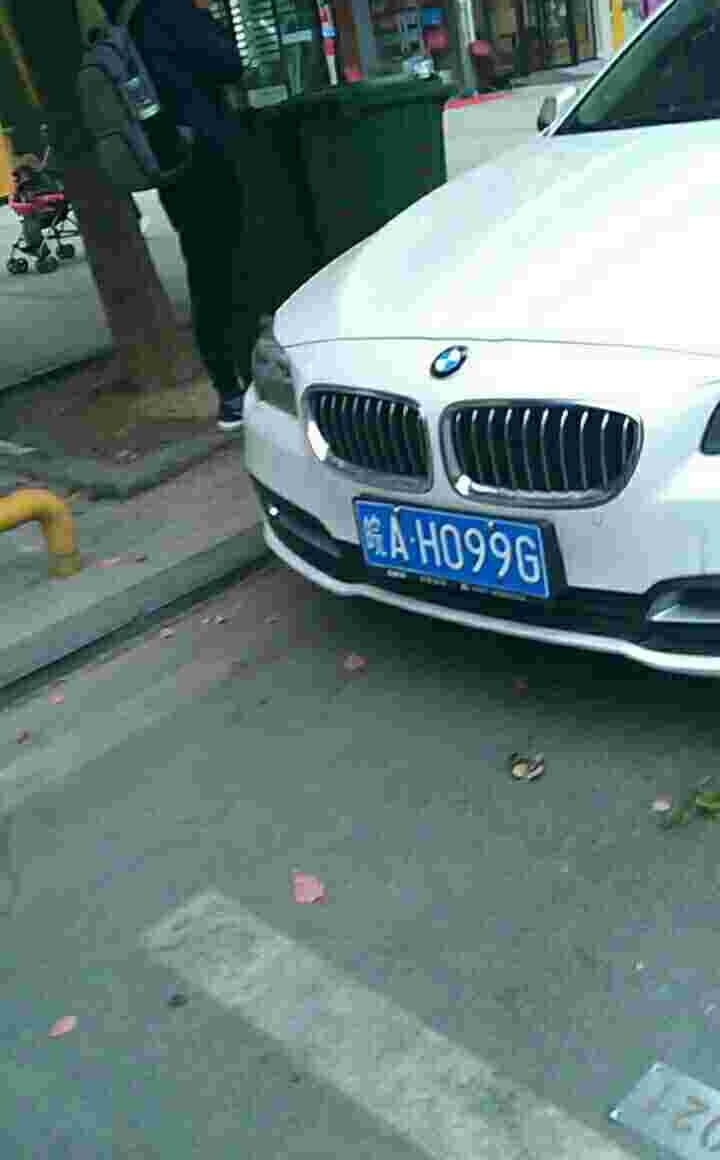plate: (351, 493, 553, 601)
